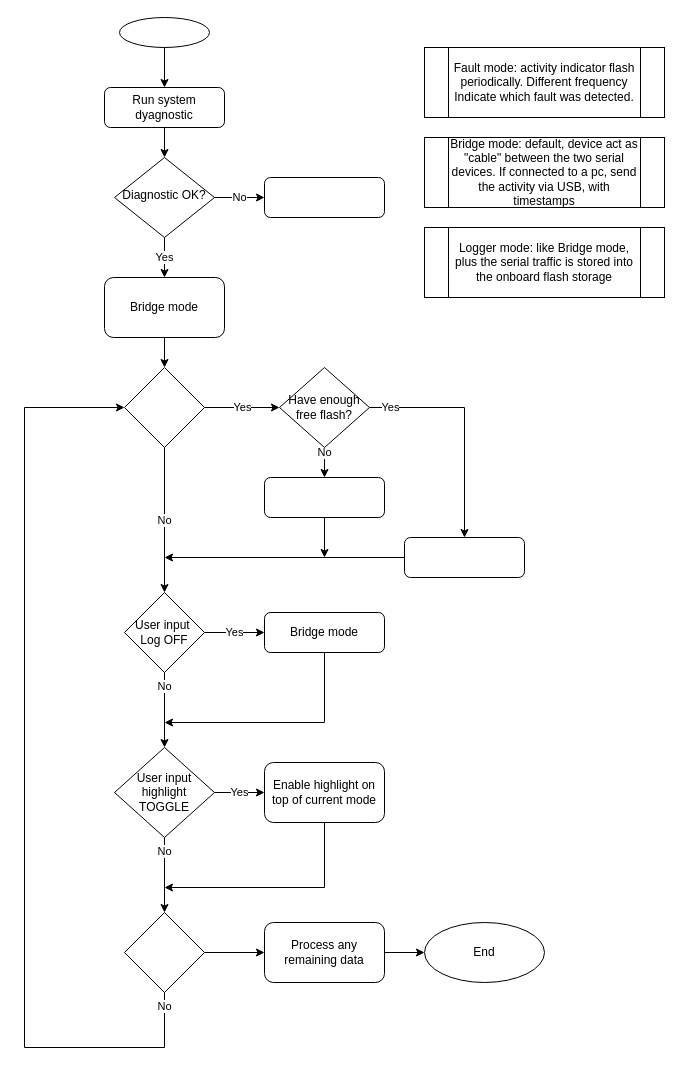
Image size: 682x1073. Some labels were removed from this diagram. The centre of each missing label's shape, as x and y in pixels:
"Fault mode" belongs at (x=324, y=197).
"Logger Mode" belongs at (x=464, y=557).
"Run error routine" belongs at (x=324, y=497).
"Start" belongs at (x=164, y=32).
"User input Log ON" belongs at (x=164, y=407).
"User input OFF" belongs at (x=164, y=952).
